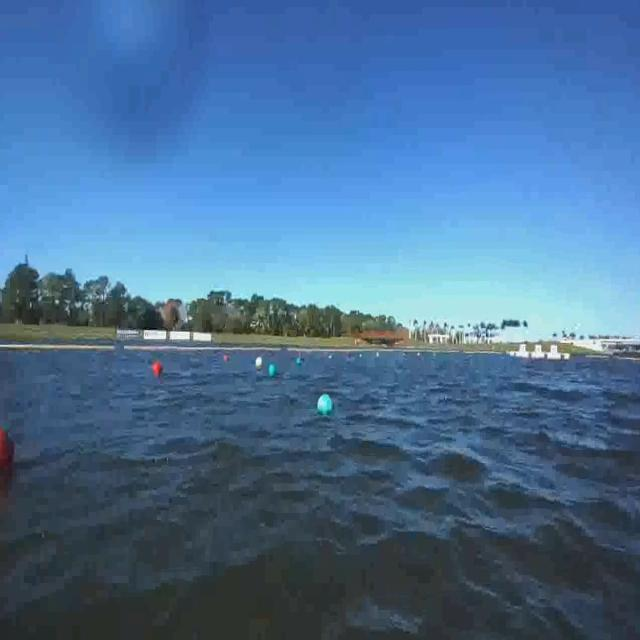green-buoy: (320, 396, 336, 419), (270, 362, 278, 376)
red-buoy: (0, 427, 15, 470), (152, 360, 162, 376)
